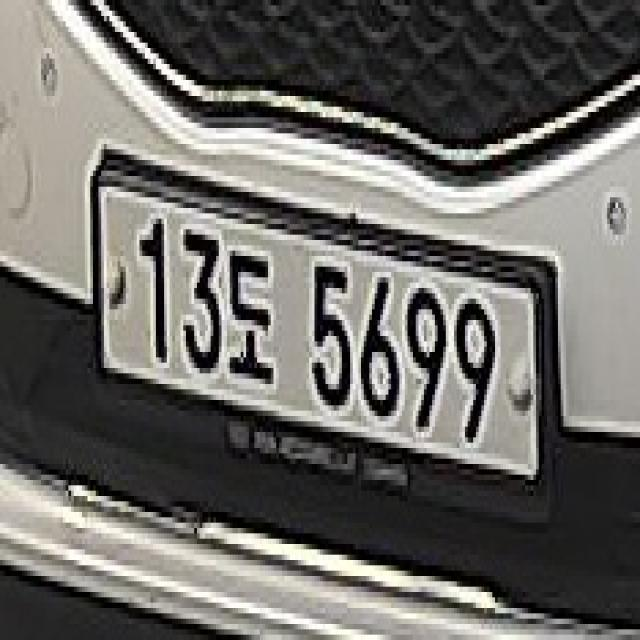plat: (86, 141, 563, 518)
